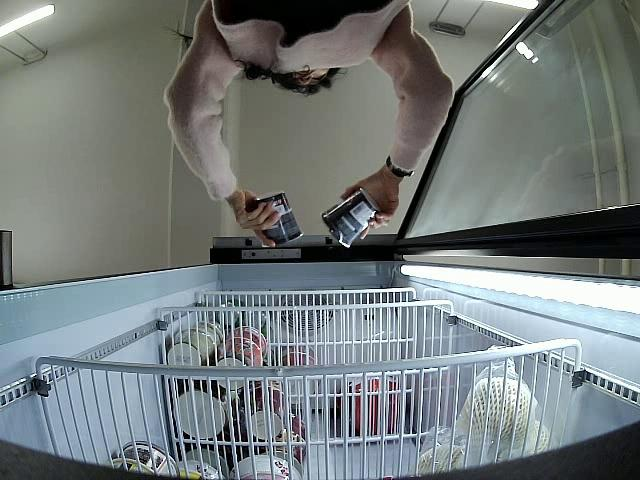00_hand: (341, 169, 399, 239), (232, 193, 281, 247)
08_buldak_S: (249, 189, 305, 253), (322, 188, 380, 249)
